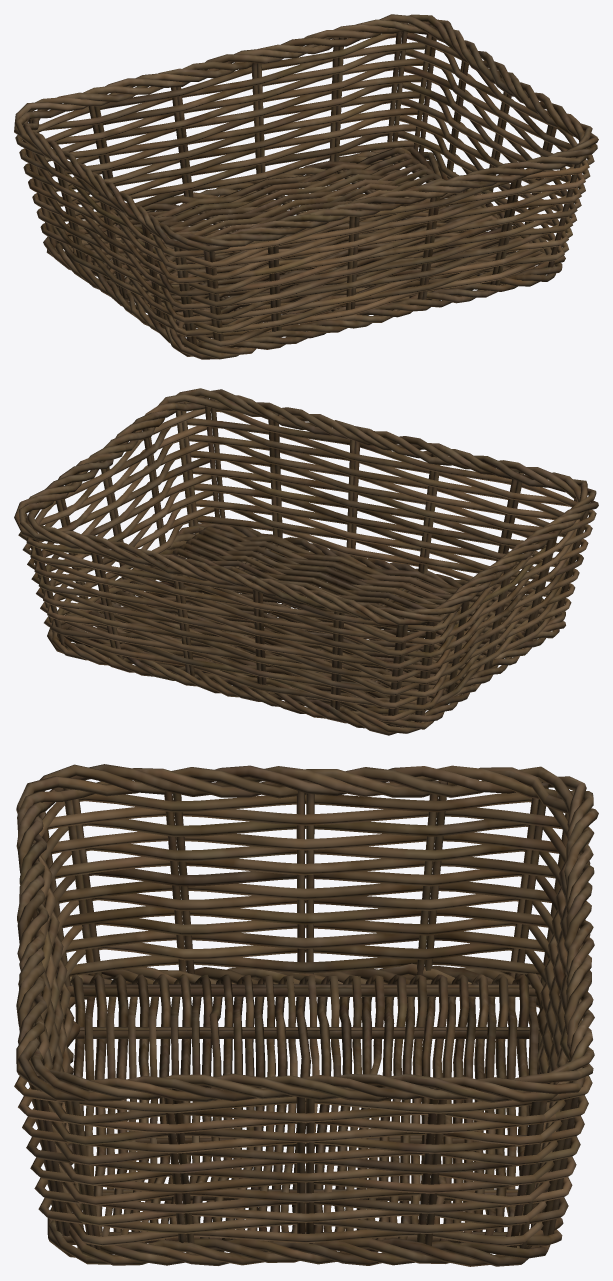
Rendered from wicker_basket_01.glb.
3 renders of one model, top to bottom at view 1: azimuth 30°, elevation 25°; view 2: azimuth 150°, elevation 25°; view 3: azimuth 270°, elevation 25°, orthographic. The views are drawn at different scales.
Visible parts, largest first — view 1: wicker_basket_01; view 2: wicker_basket_01; view 3: wicker_basket_01.
Part boxes in pixels (left/top/right/bottom): wicker_basket_01: left=14, top=14, right=598, bottom=359; wicker_basket_01: left=14, top=388, right=598, bottom=735; wicker_basket_01: left=14, top=764, right=598, bottom=1266.
Bounding box in the file's own units: 0.3832 × 0.1174 × 0.295.
1 material, 1 textured.
